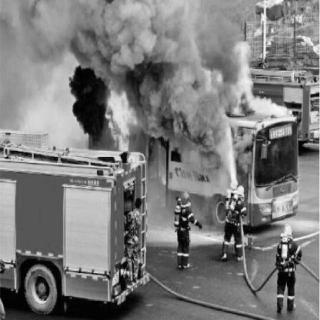Smoke: (157, 51, 215, 137)
other: (225, 175, 248, 198)
